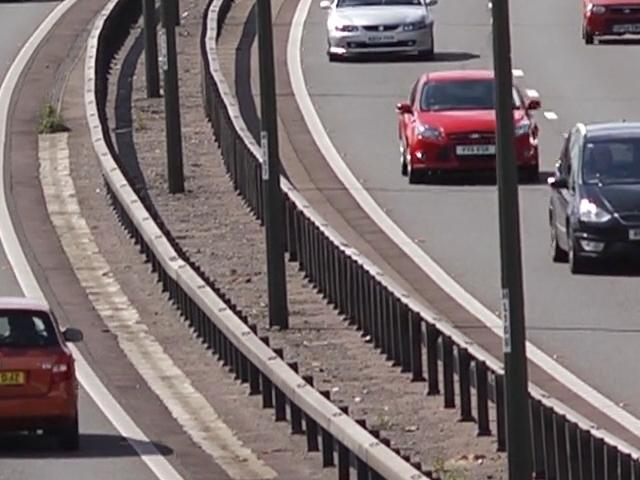car: (0, 273, 86, 468), (393, 68, 527, 182), (544, 116, 640, 269), (319, 0, 431, 66), (572, 0, 640, 44)
